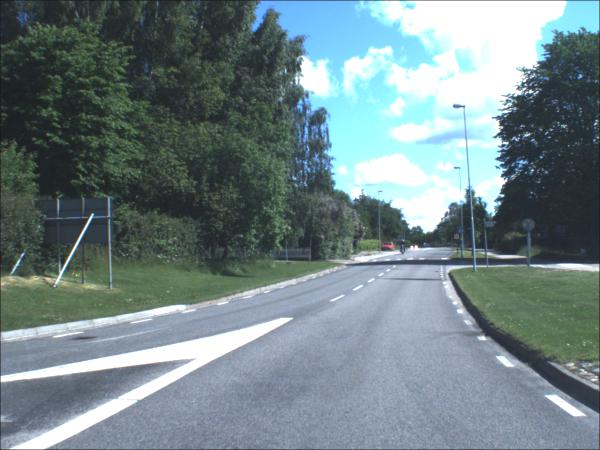PEDESTRIAN_CROSSING: (460, 228, 466, 235)
PRIORITY_ROAD: (455, 235, 461, 241)
